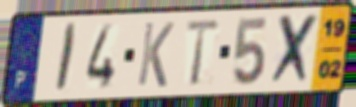4: (83, 23, 117, 91)
5: (232, 15, 272, 87)
I: (53, 21, 80, 96)
K: (135, 20, 177, 90)
T: (183, 17, 224, 89)
X: (266, 11, 322, 89)
